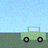vehicle: (21, 27, 46, 42)
